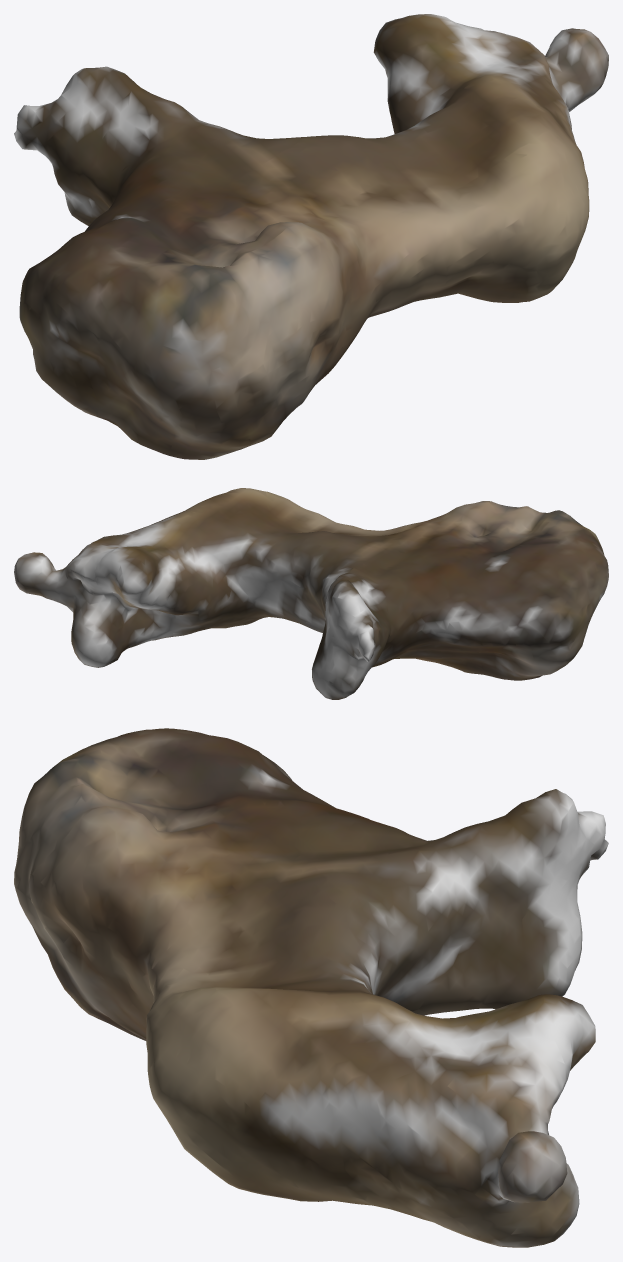
File: lion.glb
The picture shows the model from 3 angles, top to bottom: view 1: azimuth 30°, elevation 25°; view 2: azimuth 150°, elevation 25°; view 3: azimuth 270°, elevation 25°; orthographic projection. The views are drawn at different scales.
Bounding box in the file's own units: 0.9989 × 0.3264 × 0.6439.
